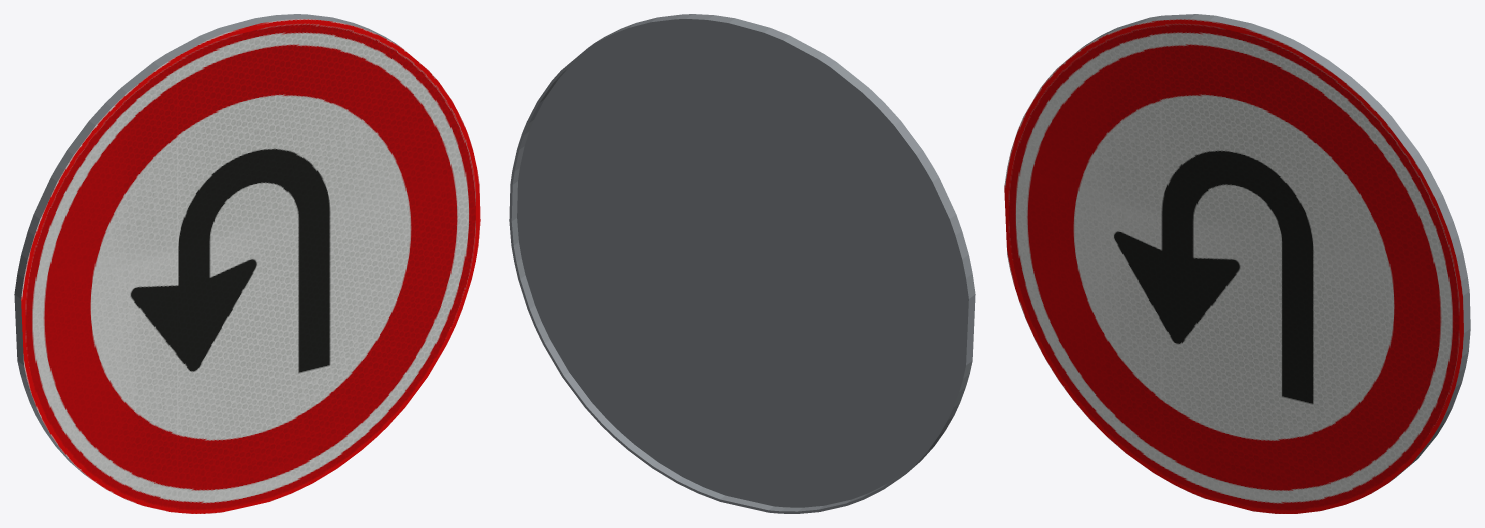
3 renders of one model, left to right at view 1: azimuth 30°, elevation 25°; view 2: azimuth 150°, elevation 25°; view 3: azimuth 330°, elevation 25°, orthographic.
Visible parts, largest first — view 1: cat_1a449a5a168355f7; view 2: cat_1a449a5a168355f7; view 3: cat_1a449a5a168355f7.
Boxes of the visible parts, x1,y1,x2,y2 form: cat_1a449a5a168355f7: (14, 14, 480, 513); cat_1a449a5a168355f7: (509, 14, 975, 513); cat_1a449a5a168355f7: (1004, 14, 1470, 513).
Size of the model in its own units: 0.6 by 0.015 by 0.6.
Materials: 2 (1 with a texture image).
